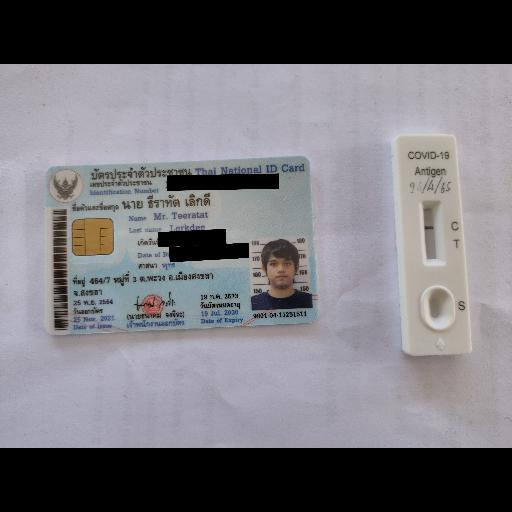Neg: (394, 134, 473, 357)
